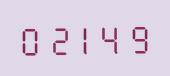four: (99, 19, 125, 55)
nine: (126, 19, 152, 54)
one: (72, 20, 98, 55)
two: (45, 20, 71, 56)
zero: (18, 21, 44, 56)
